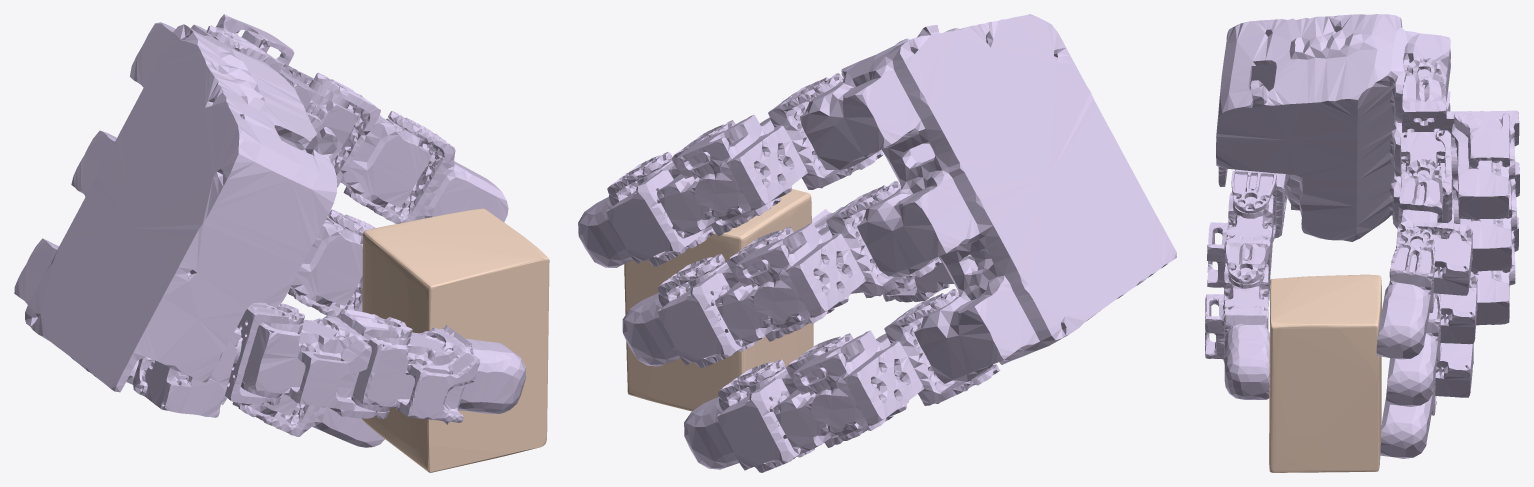
The model's file is f48e6cb76d58e3-closed.glb.
3 renders of one model, left to right at view 1: azimuth 30°, elevation 25°; view 2: azimuth 150°, elevation 25°; view 3: azimuth 270°, elevation 25°, orthographic. The views are drawn at different scales.
Visible parts, largest first — view 1: LEAP_hand, world; view 2: LEAP_hand, world; view 3: LEAP_hand, world.
Part boxes in pixels (x1,y1,x2,y2): LEAP_hand: (14, 14, 526, 447); world: (361, 208, 549, 472); LEAP_hand: (578, 14, 1176, 472); world: (624, 189, 813, 411); LEAP_hand: (1205, 14, 1519, 458); world: (1269, 274, 1381, 472).
Bounding box in the file's own units: 0.2069 × 0.1863 × 0.1431.
